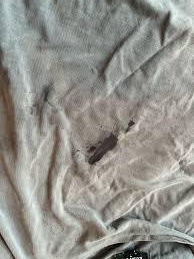oil: (84, 115, 139, 173)
